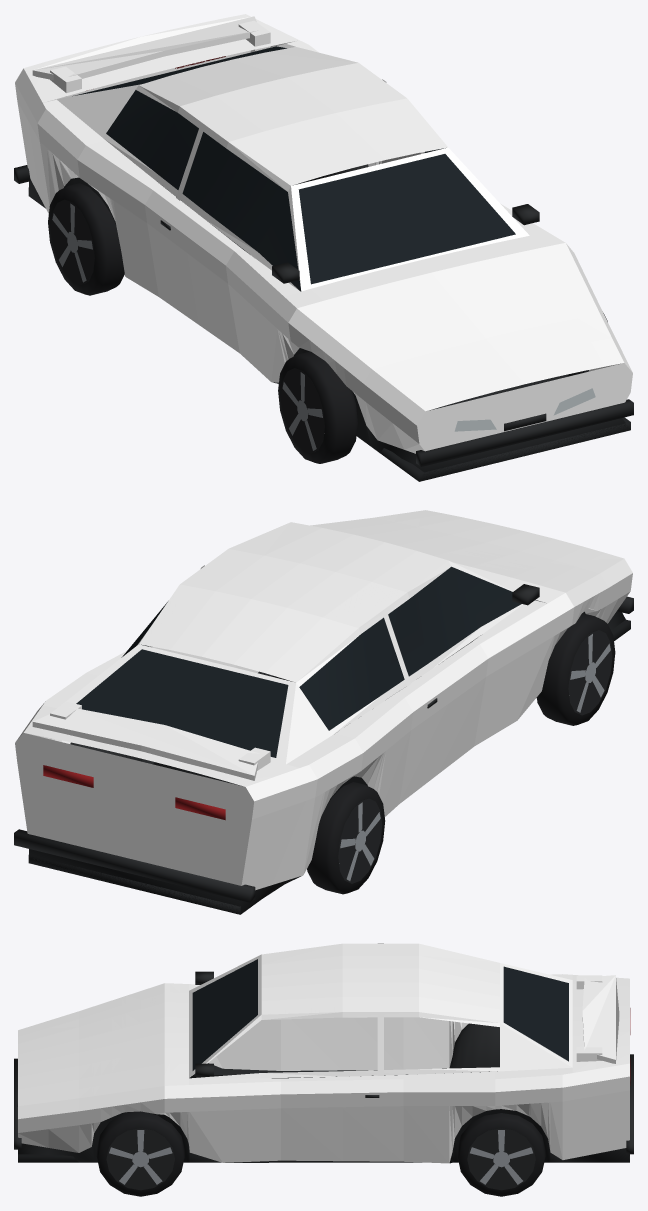
Rendered from hayase_deriva.glb.
3 renders of one model, top to bottom at view 1: azimuth 30°, elevation 25°; view 2: azimuth 150°, elevation 25°; view 3: azimuth 270°, elevation 25°, orthographic. The views are drawn at different scales.
Visible parts, largest first — view 1: Body_Paint, Body_Details, Mount_FrontLeft_Wheel_Details, Mount_RearLeft_Wheel_Details; view 2: Body_Paint, Body_Details, Mount_RearLeft_Wheel_Details, Mount_FrontLeft_Wheel_Details; view 3: Body_Paint, Body_Details, Mount_FrontRight_Wheel_Details, Mount_RearRight_Wheel_Details.
Part boxes in pixels (left/top/right/bottom): Body_Paint: left=15, top=14, right=632, bottom=453; Body_Details: left=14, top=46, right=633, bottom=481; Mount_FrontLeft_Wheel_Details: left=278, top=351, right=357, bottom=463; Mount_RearLeft_Wheel_Details: left=48, top=183, right=124, bottom=295; Body_Paint: left=15, top=510, right=632, bottom=890; Body_Details: left=14, top=566, right=633, bottom=914; Mount_RearLeft_Wheel_Details: left=307, top=782, right=385, bottom=894; Mount_FrontLeft_Wheel_Details: left=537, top=613, right=615, bottom=725; Body_Paint: left=18, top=943, right=629, bottom=1163; Body_Details: left=14, top=959, right=633, bottom=1163; Mount_FrontRight_Wheel_Details: left=96, top=1111, right=184, bottom=1196; Mount_RearRight_Wheel_Details: left=457, top=1113, right=545, bottom=1196.
Size of the model in its own units: 1.84 by 1.31 by 4.36.
Materials: 2 (1 with a texture image).
